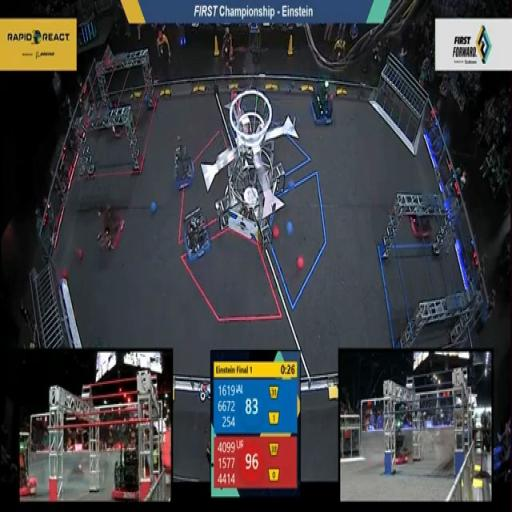robot: (178, 202, 214, 269), (94, 198, 130, 253), (170, 130, 202, 190), (307, 76, 340, 126), (406, 190, 436, 238)
